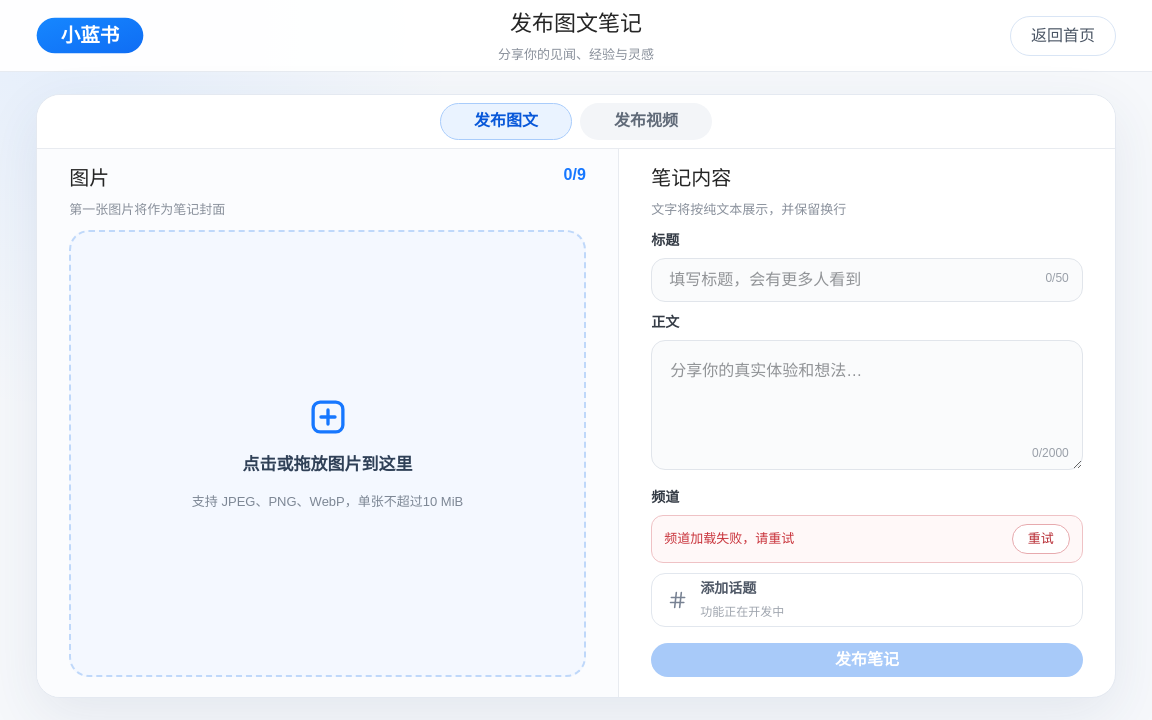
Test: PublishPage › keeps the draft while retrying a channel-list failure
Expected: the heading "发布图文笔记" is shown, [510,11,642,36]
In the field labelled "标题": (867, 280) [651,258,1083,302], type "保留的草稿"
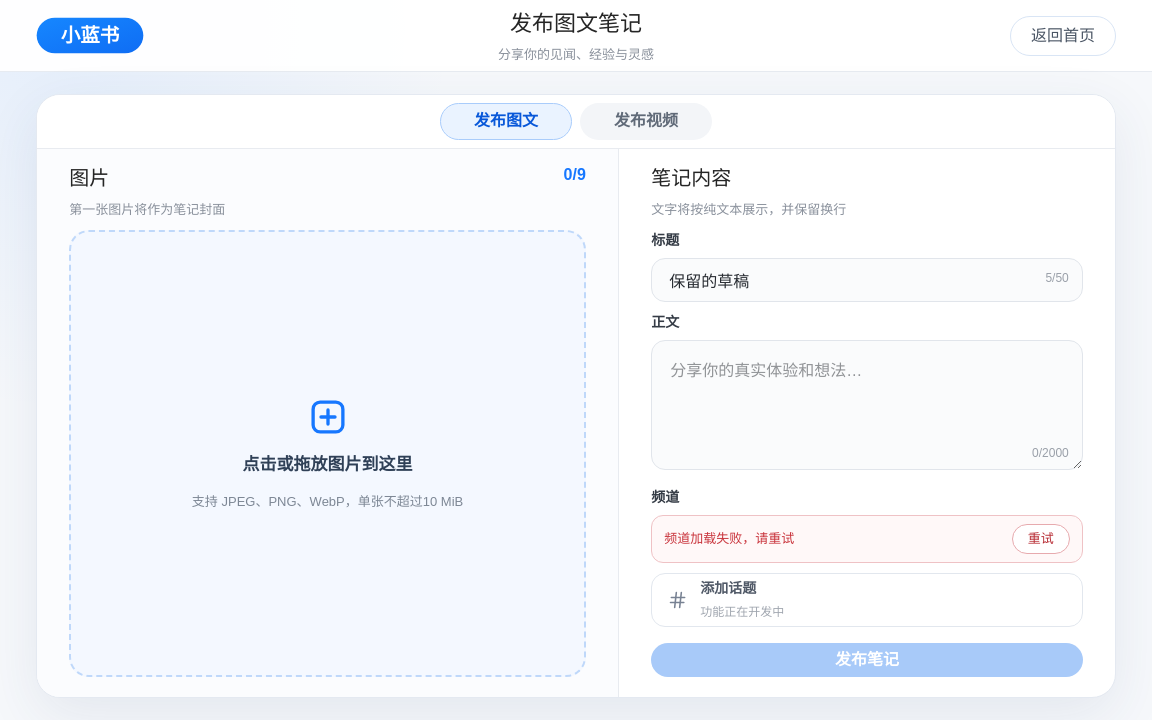
Expected: the text "频道加载失败，请重试" is shown, [664,529,794,548]
Click the button "重试": click(1041, 539) [1012,524,1070,554]
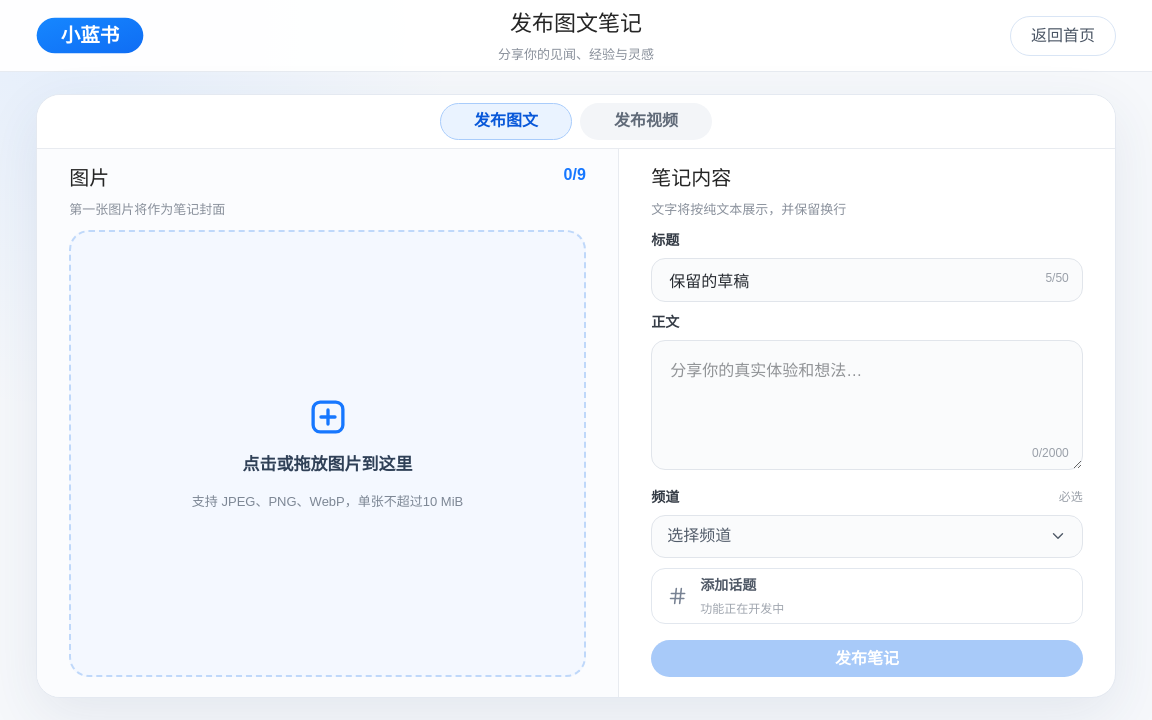
Result: the button "选择频道" is shown at [651,515,1083,558]
